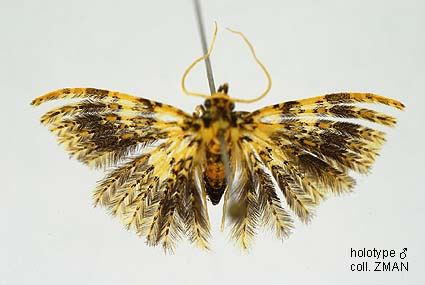Alucitidae: (25, 23, 405, 261)
moth: (27, 25, 407, 263)
